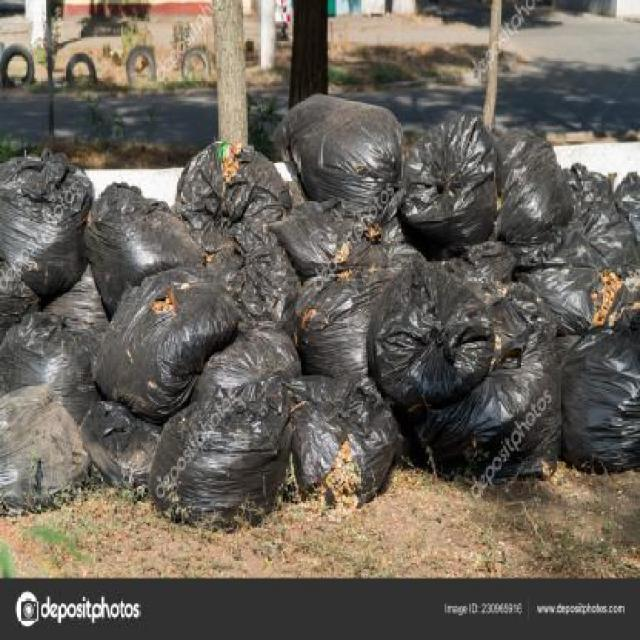garbage: (0, 157, 639, 504), (279, 89, 559, 272)
